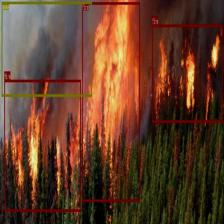fire: (82, 2, 140, 202), (4, 80, 81, 210), (152, 24, 222, 122)
smoke: (1, 2, 92, 96)
